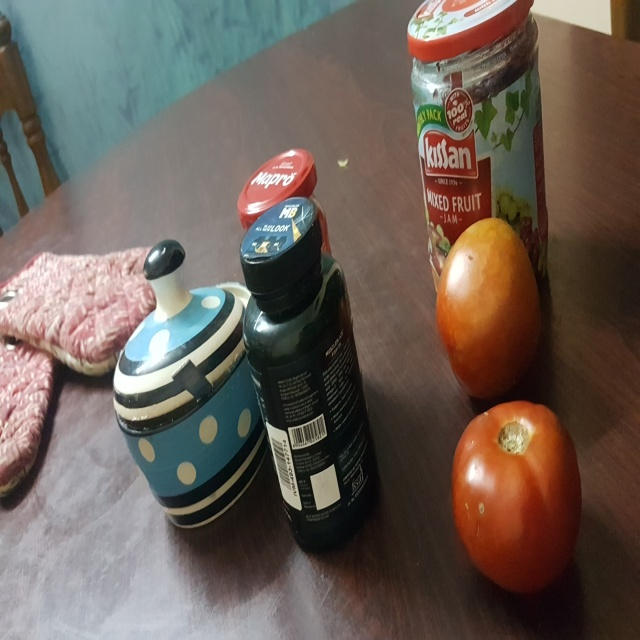tomato: (448, 396, 588, 600), (437, 209, 554, 407)
